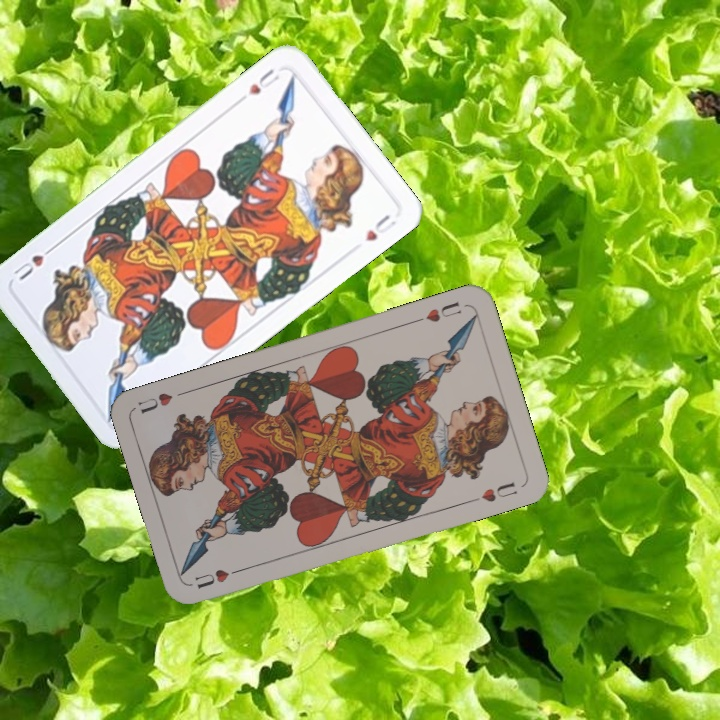HU: (411, 297, 465, 326), (190, 564, 247, 591), (244, 64, 282, 98)
